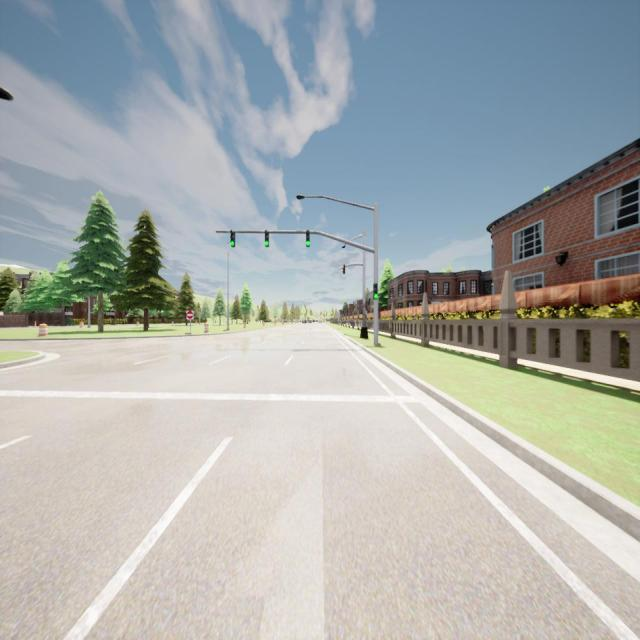Traffic_Signs: (185, 310, 194, 320)
Vehicle: (302, 319, 307, 324), (313, 319, 318, 324), (308, 320, 312, 324), (318, 320, 322, 324)
traffic_light: (230, 231, 235, 248), (373, 283, 378, 299), (265, 230, 269, 248), (306, 230, 310, 247), (342, 265, 345, 274)
